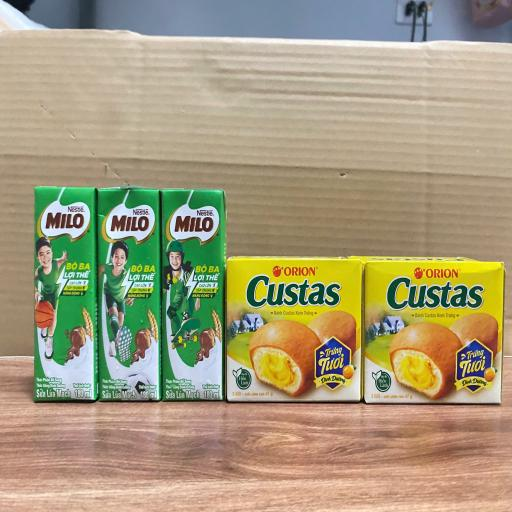custas: (348, 256, 506, 404), (225, 256, 364, 404)
milo: (33, 186, 99, 403), (96, 186, 162, 402), (161, 187, 227, 401)
